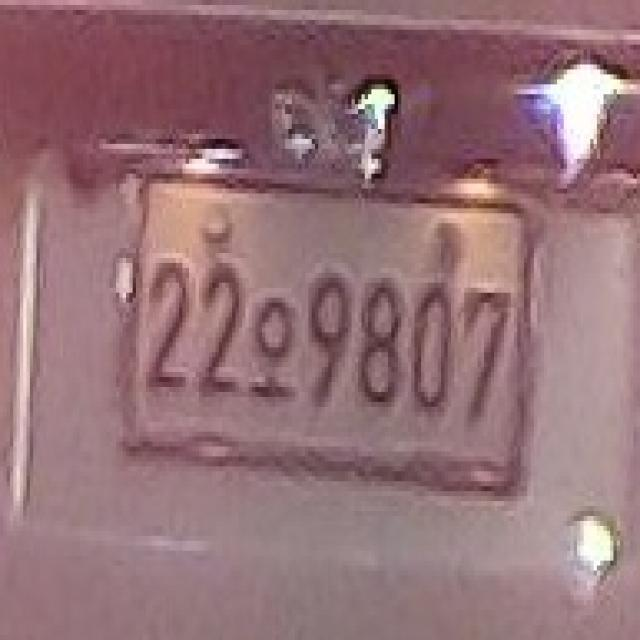0: (407, 268, 456, 423)
2: (193, 254, 250, 402), (142, 252, 197, 397)
7: (458, 272, 515, 433)
8: (348, 270, 411, 418)
9: (302, 258, 362, 423)
license_plate: (130, 179, 525, 469)
o: (247, 289, 298, 410)
